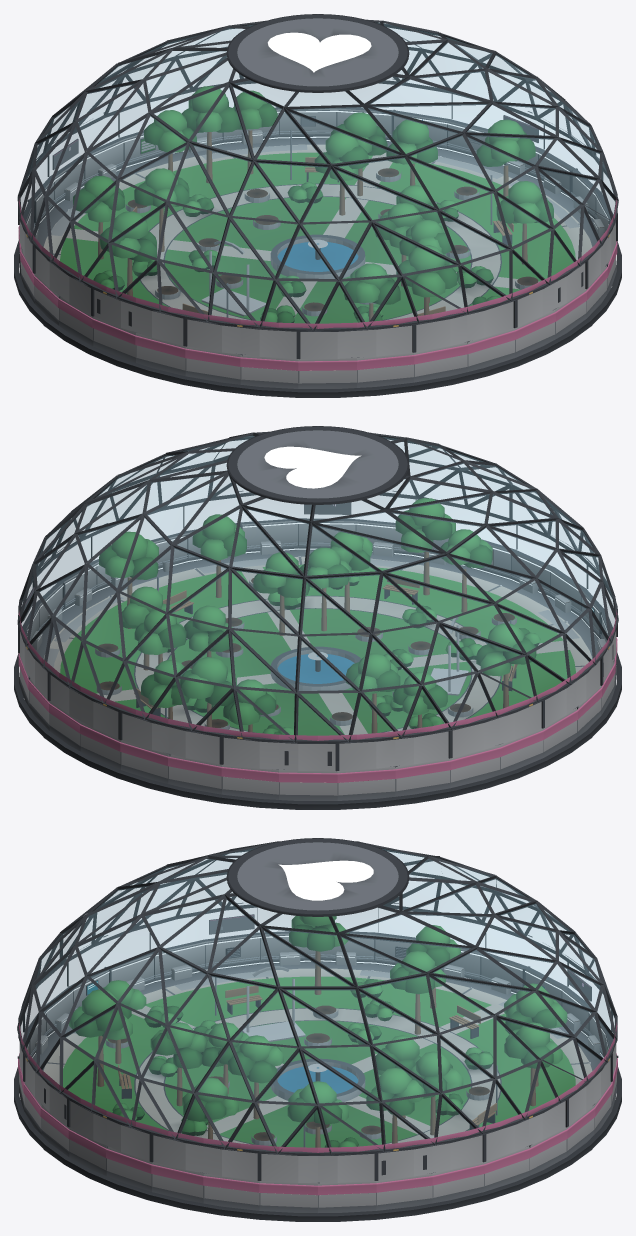
The model's file is park_l_far.glb.
3 views of the same model, one above another, from view 1: azimuth 30°, elevation 25°; view 2: azimuth 150°, elevation 25°; view 3: azimuth 270°, elevation 25° (orthographic).
Visible parts, largest first — view 1: Roof, Interior, Base; view 2: Roof, Interior, Base; view 3: Roof, Interior, Base.
Part boxes in pixels (left/top/right/bottom): Roof: left=17, top=14, right=618, bottom=359; Interior: left=51, top=86, right=579, bottom=323; Base: left=14, top=107, right=621, bottom=397; Roof: left=17, top=426, right=618, bottom=771; Interior: left=44, top=498, right=579, bottom=735; Base: left=14, top=518, right=621, bottom=809; Roof: left=17, top=838, right=617, bottom=1182; Interior: left=63, top=916, right=575, bottom=1147; Base: left=14, top=931, right=621, bottom=1221.
Bounding box in the file's own units: 23.75 × 9.36 × 23.75.
